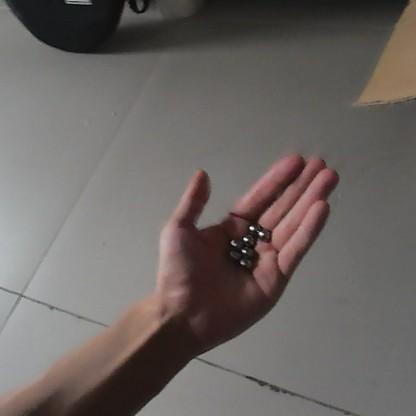ironball: (235, 256, 249, 271), (240, 234, 254, 248), (226, 234, 240, 248), (246, 222, 260, 234), (257, 229, 269, 242), (238, 243, 250, 256), (228, 247, 238, 259)
